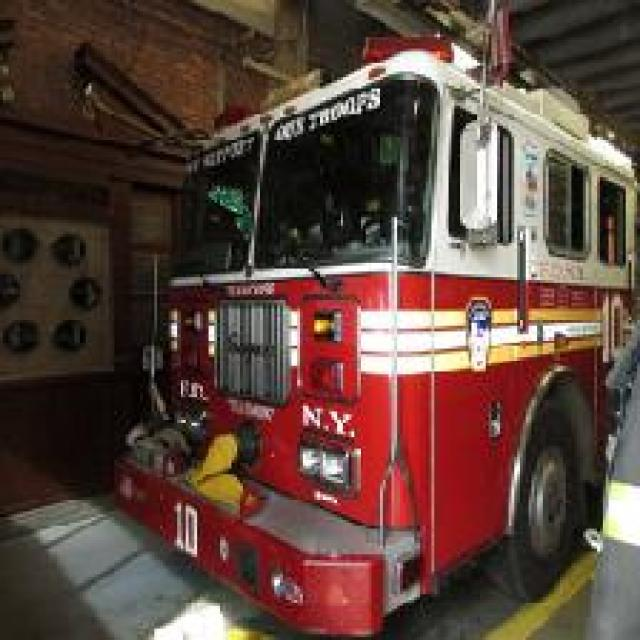Fire-truck: (109, 32, 637, 637)
